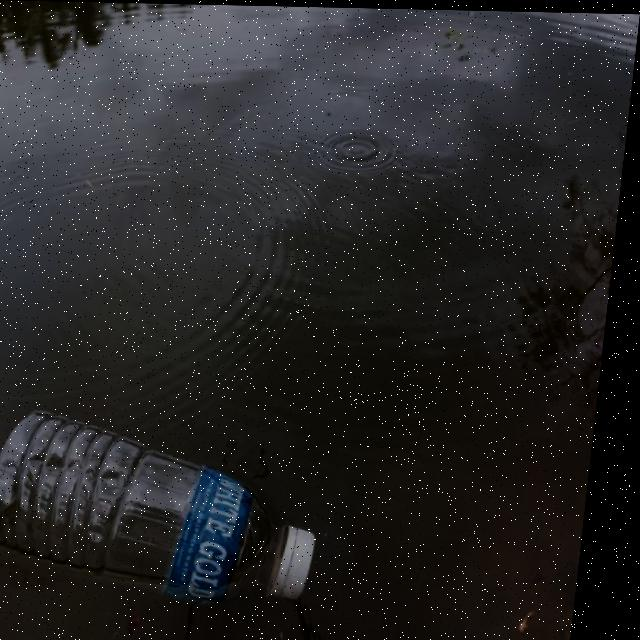waterbottle: (0, 389, 353, 618)
